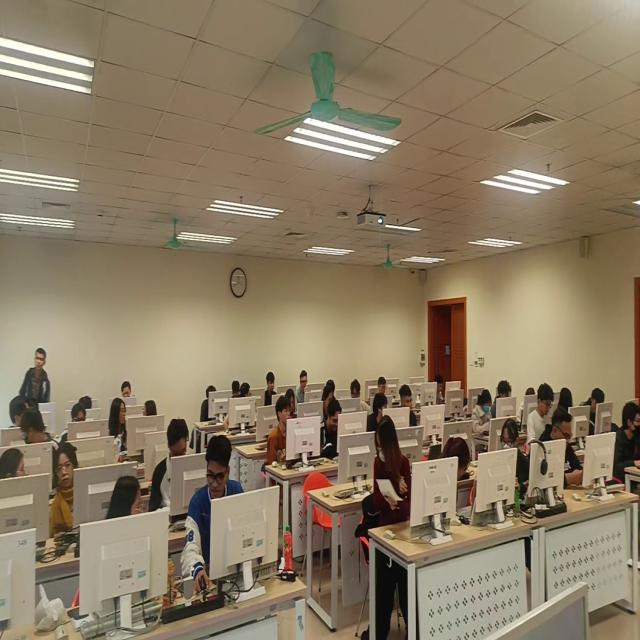raise_head: (49, 445, 92, 530), (266, 397, 309, 480), (260, 372, 284, 405), (296, 372, 318, 406)
stand: (24, 347, 50, 420)
using_computer: (184, 438, 265, 598), (534, 412, 607, 513), (432, 438, 496, 534), (399, 382, 437, 442), (315, 400, 352, 460), (466, 385, 502, 443), (194, 382, 231, 433), (612, 403, 640, 468), (528, 383, 561, 438), (59, 405, 99, 450), (493, 379, 522, 426), (585, 383, 609, 438), (431, 375, 458, 416), (349, 378, 370, 423), (376, 377, 398, 405), (122, 378, 138, 407)
